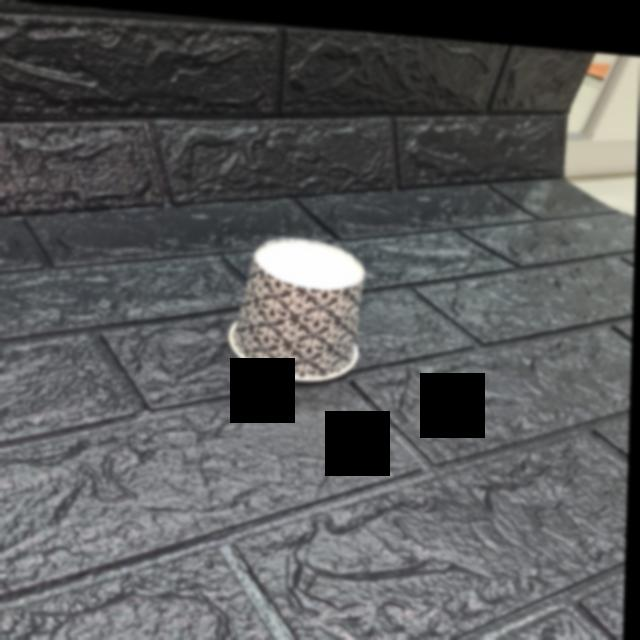cups: (221, 229, 378, 379)
